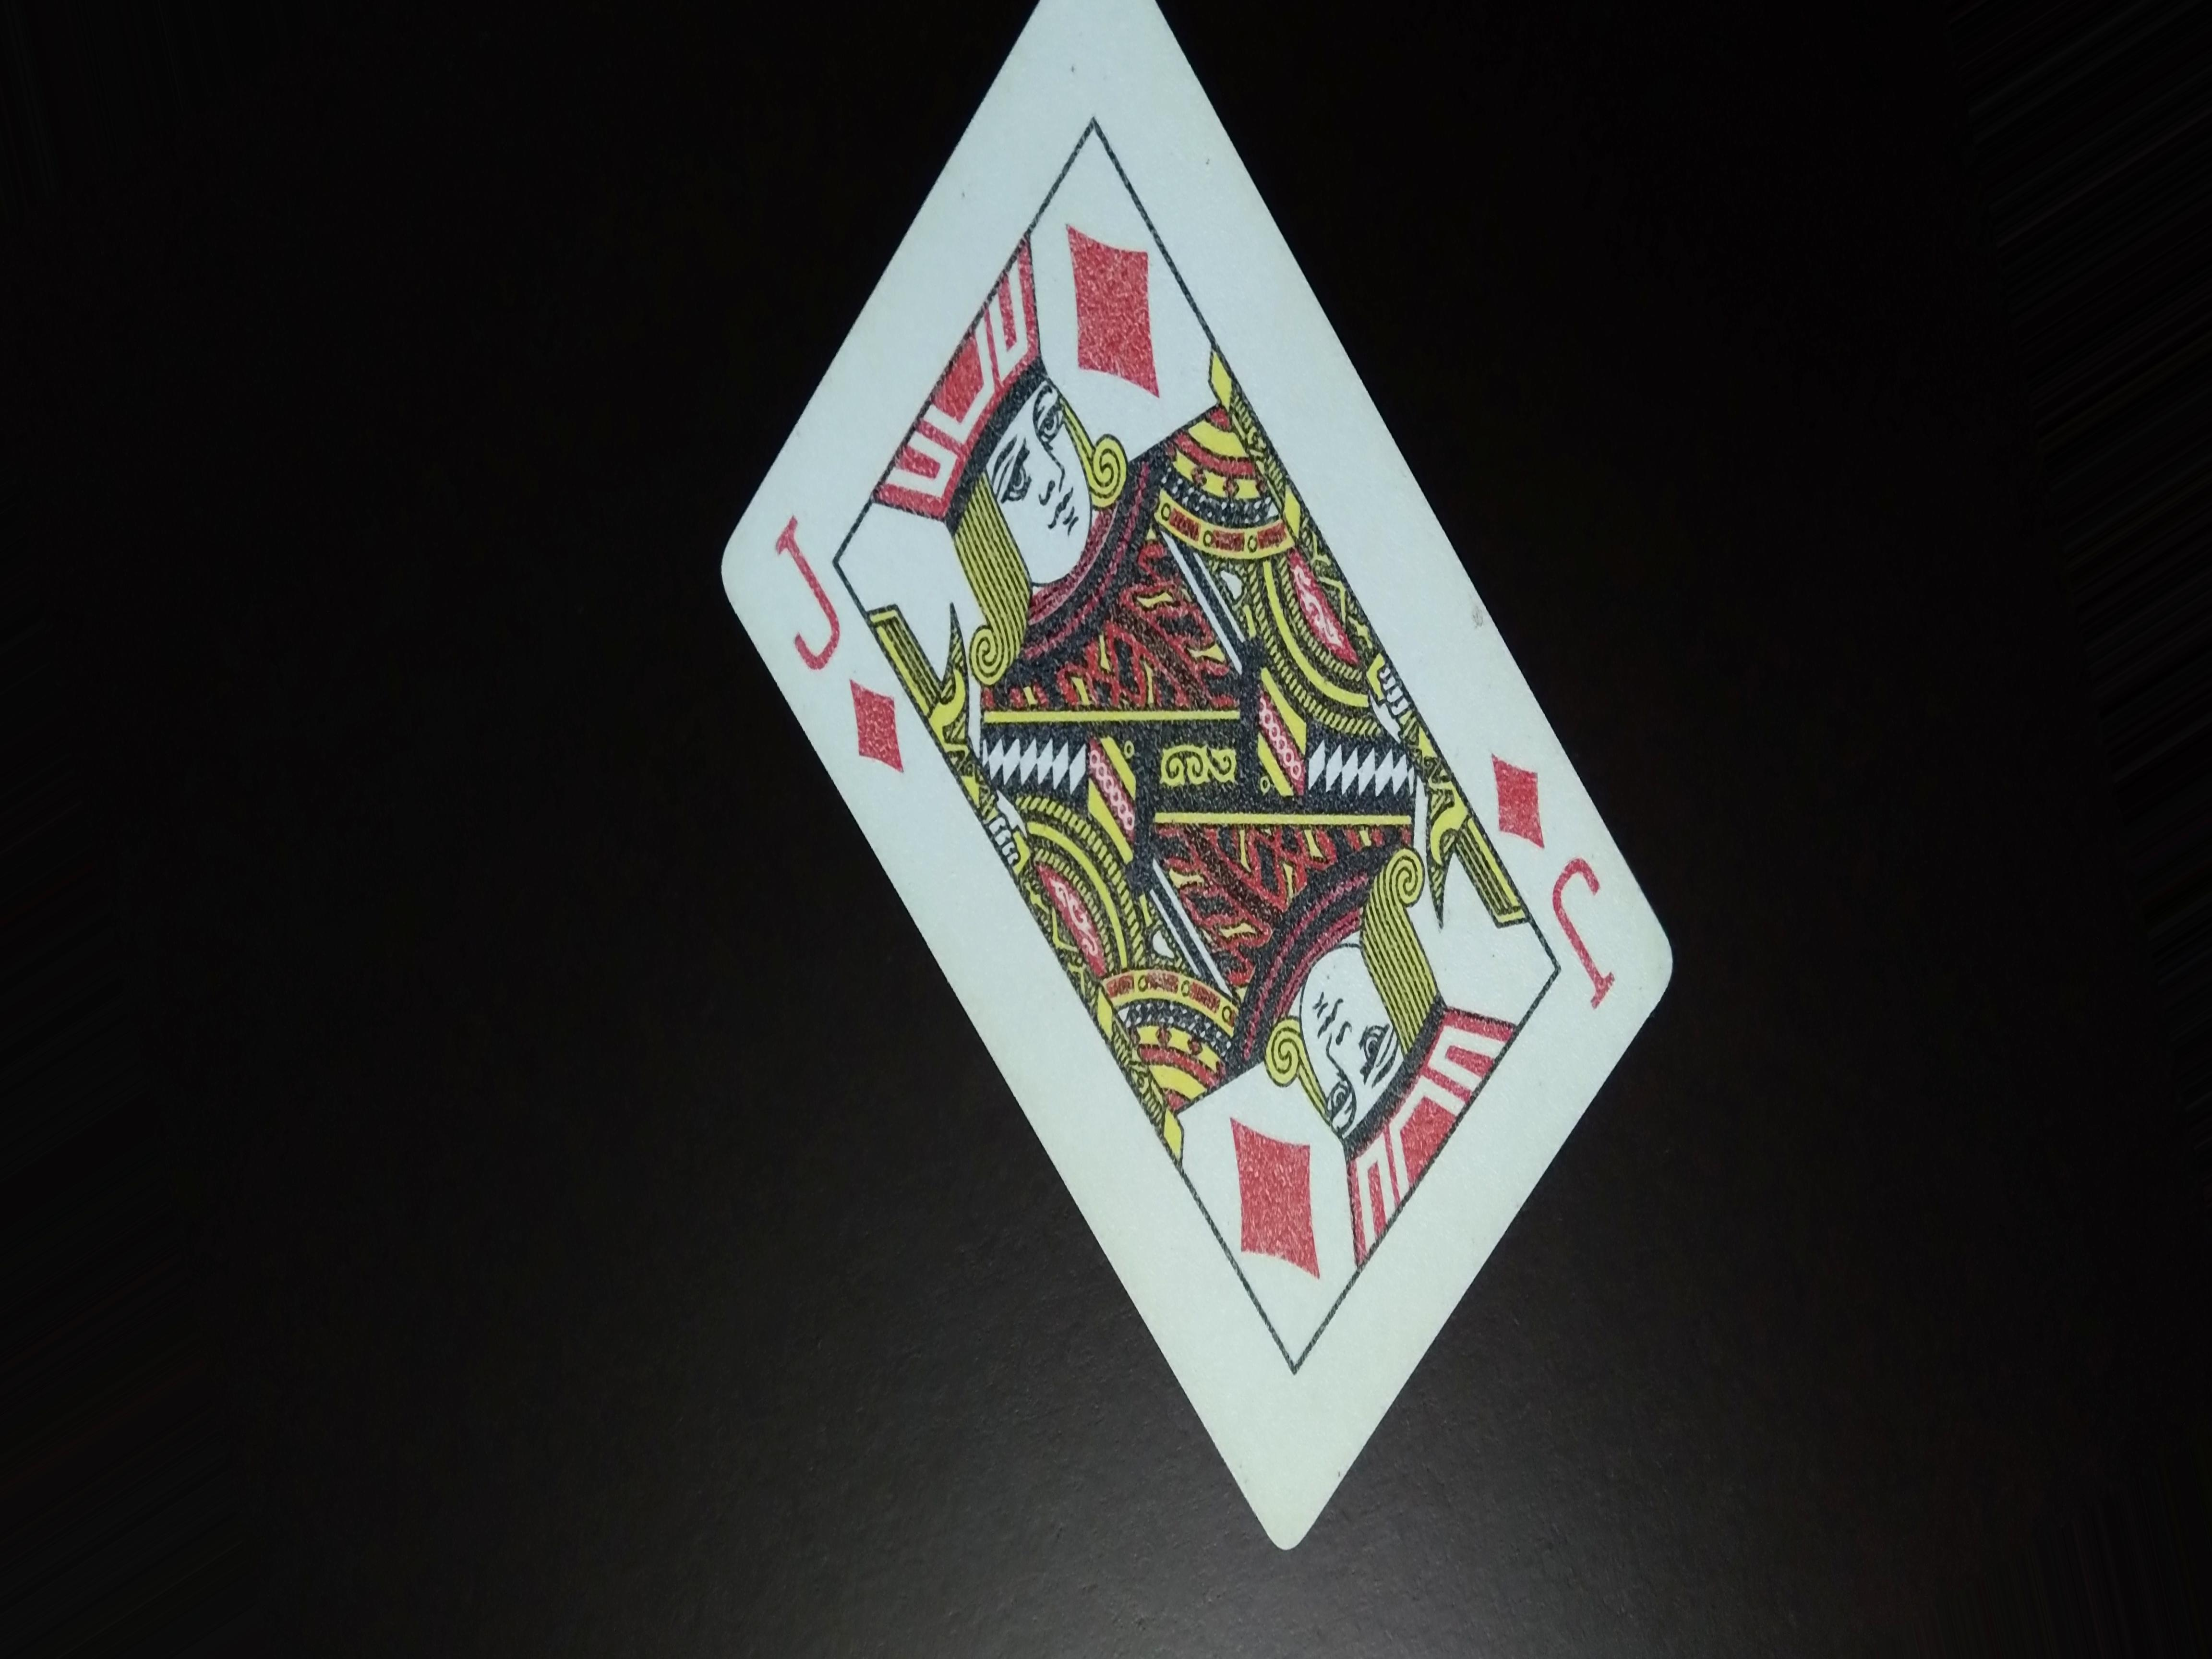JD: (763, 518, 897, 807)
